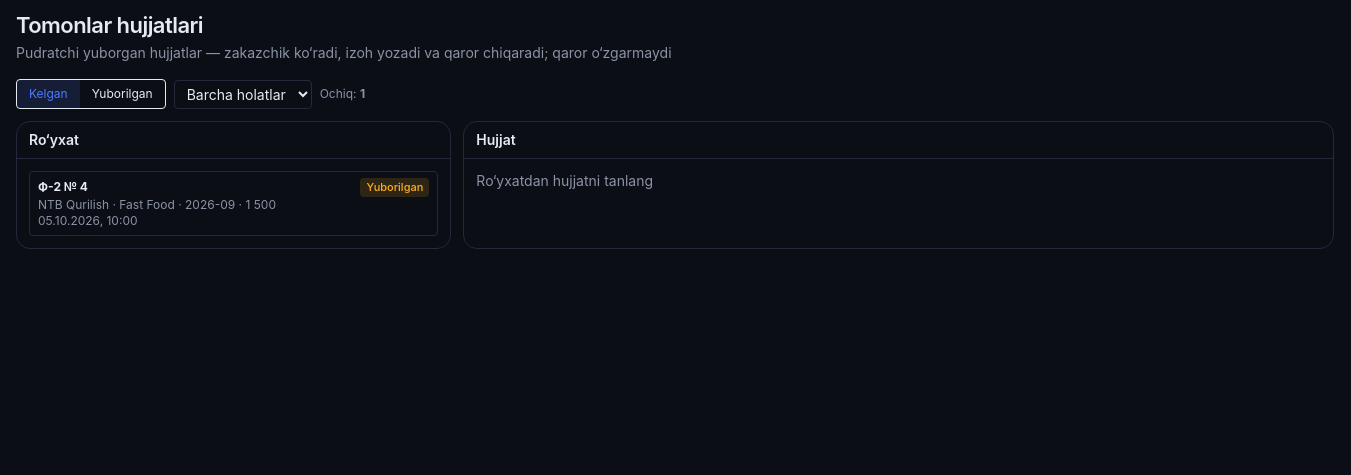
Test: Taqdimlar (zakazchik qarori) › butunlik buzilgan bo‘lsa qabul qilish bloklanadi va ogohlantirish chiqadi
This screenshot has width=1351, height=475.
Click the text "Ф-2 № 4". click: (63, 187)
box: [38,179,88,195]
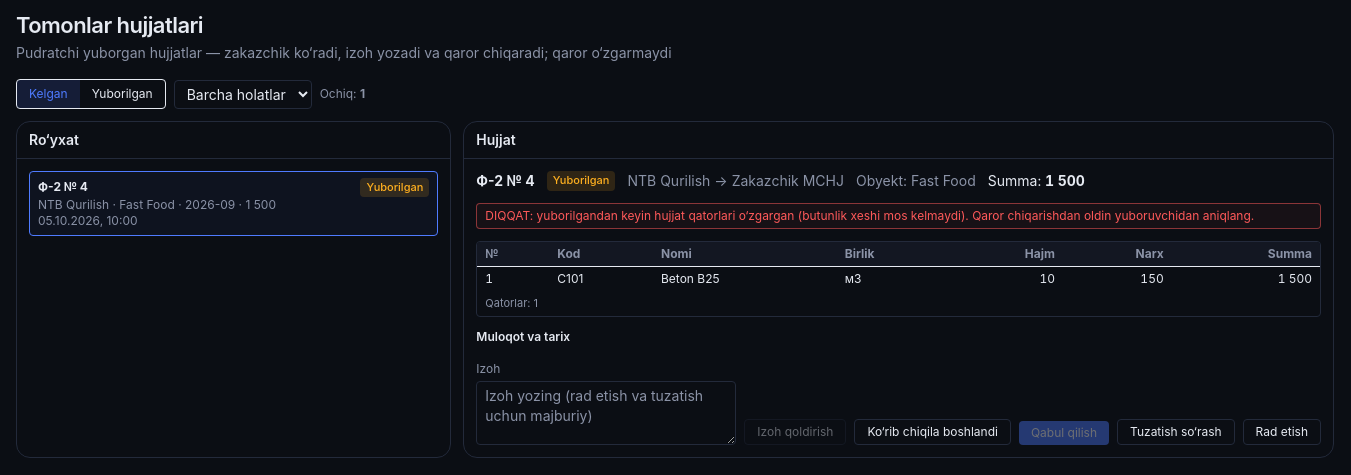
Expected: the text "butunlik xeshi mos kelmaydi" is shown, [485,208,1254,223]
Expected: the button "Qabul qilish" is disabled, [1019,420,1109,444]
